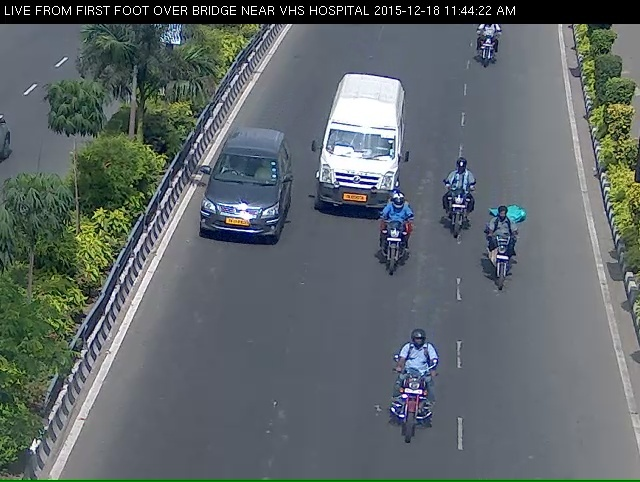Bus: (314, 83, 408, 241)
Car: (193, 141, 288, 272)
Person: (383, 356, 432, 480), (437, 167, 477, 258), (491, 213, 523, 315), (377, 209, 413, 298), (473, 23, 504, 80)
